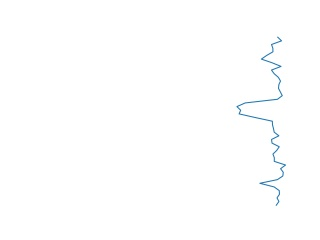interdistributaryEstuary: (233, 37, 289, 206)
